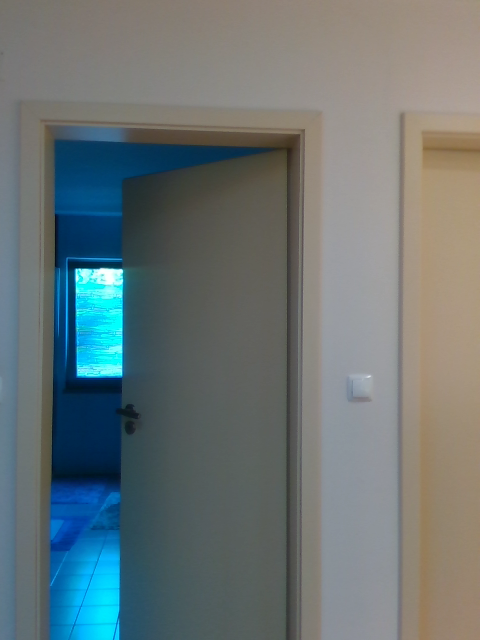semi: (13, 104, 324, 636)
